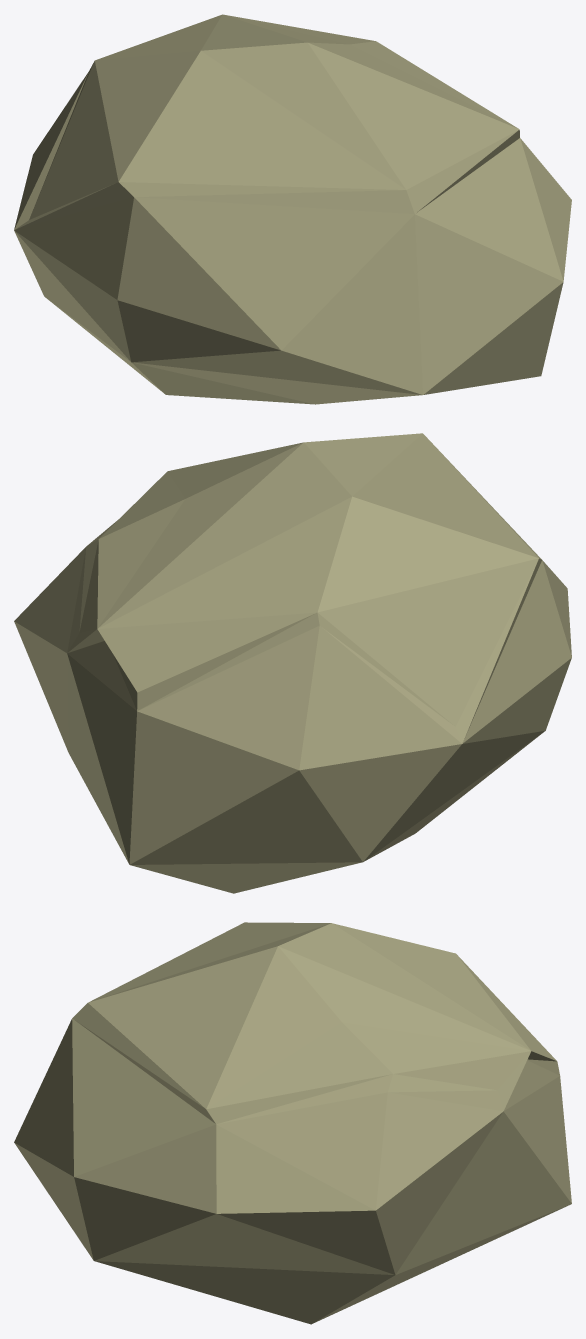
Rendered from plains_rock6.obj.
3 views of the same model, one above another, from view 1: azimuth 30°, elevation 25°; view 2: azimuth 150°, elevation 25°; view 3: azimuth 270°, elevation 25° (orthographic). The views are drawn at different scales.
Bounding box in the file's own units: 2.3 × 1.81 × 2.74.
